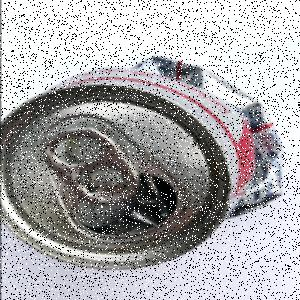Can: (2, 56, 286, 272)
